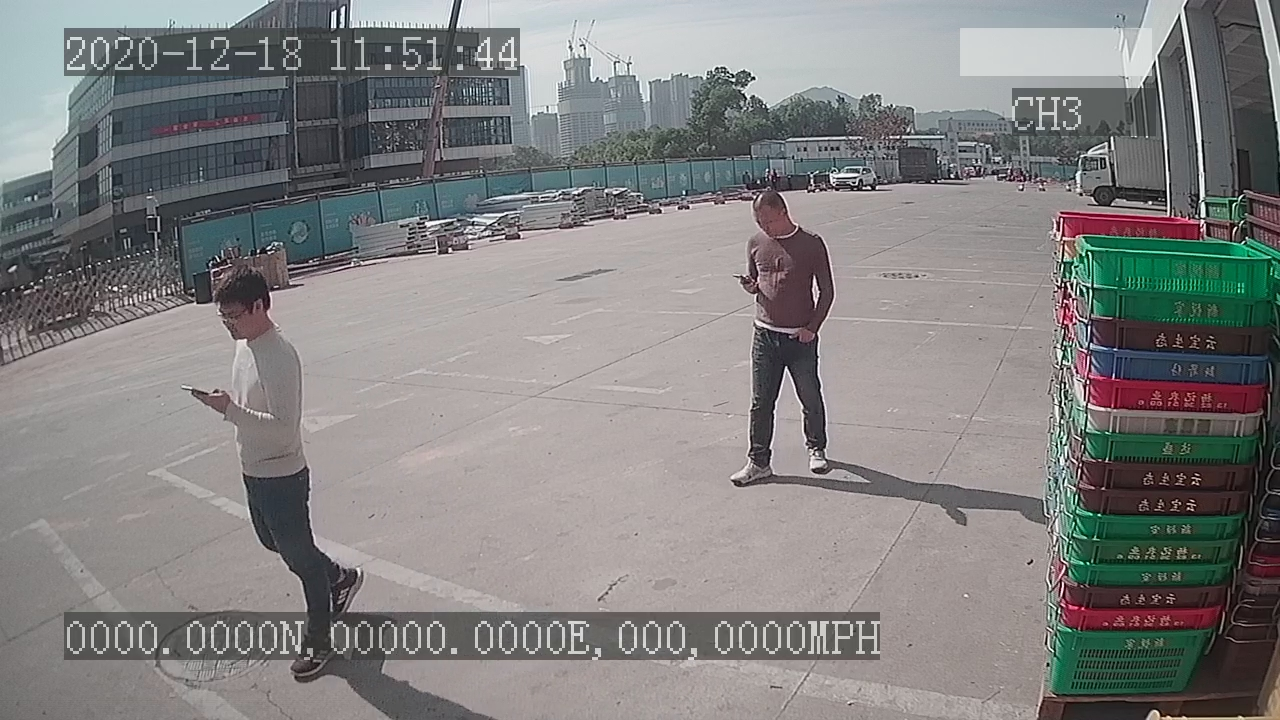person: (726, 185, 840, 494)
